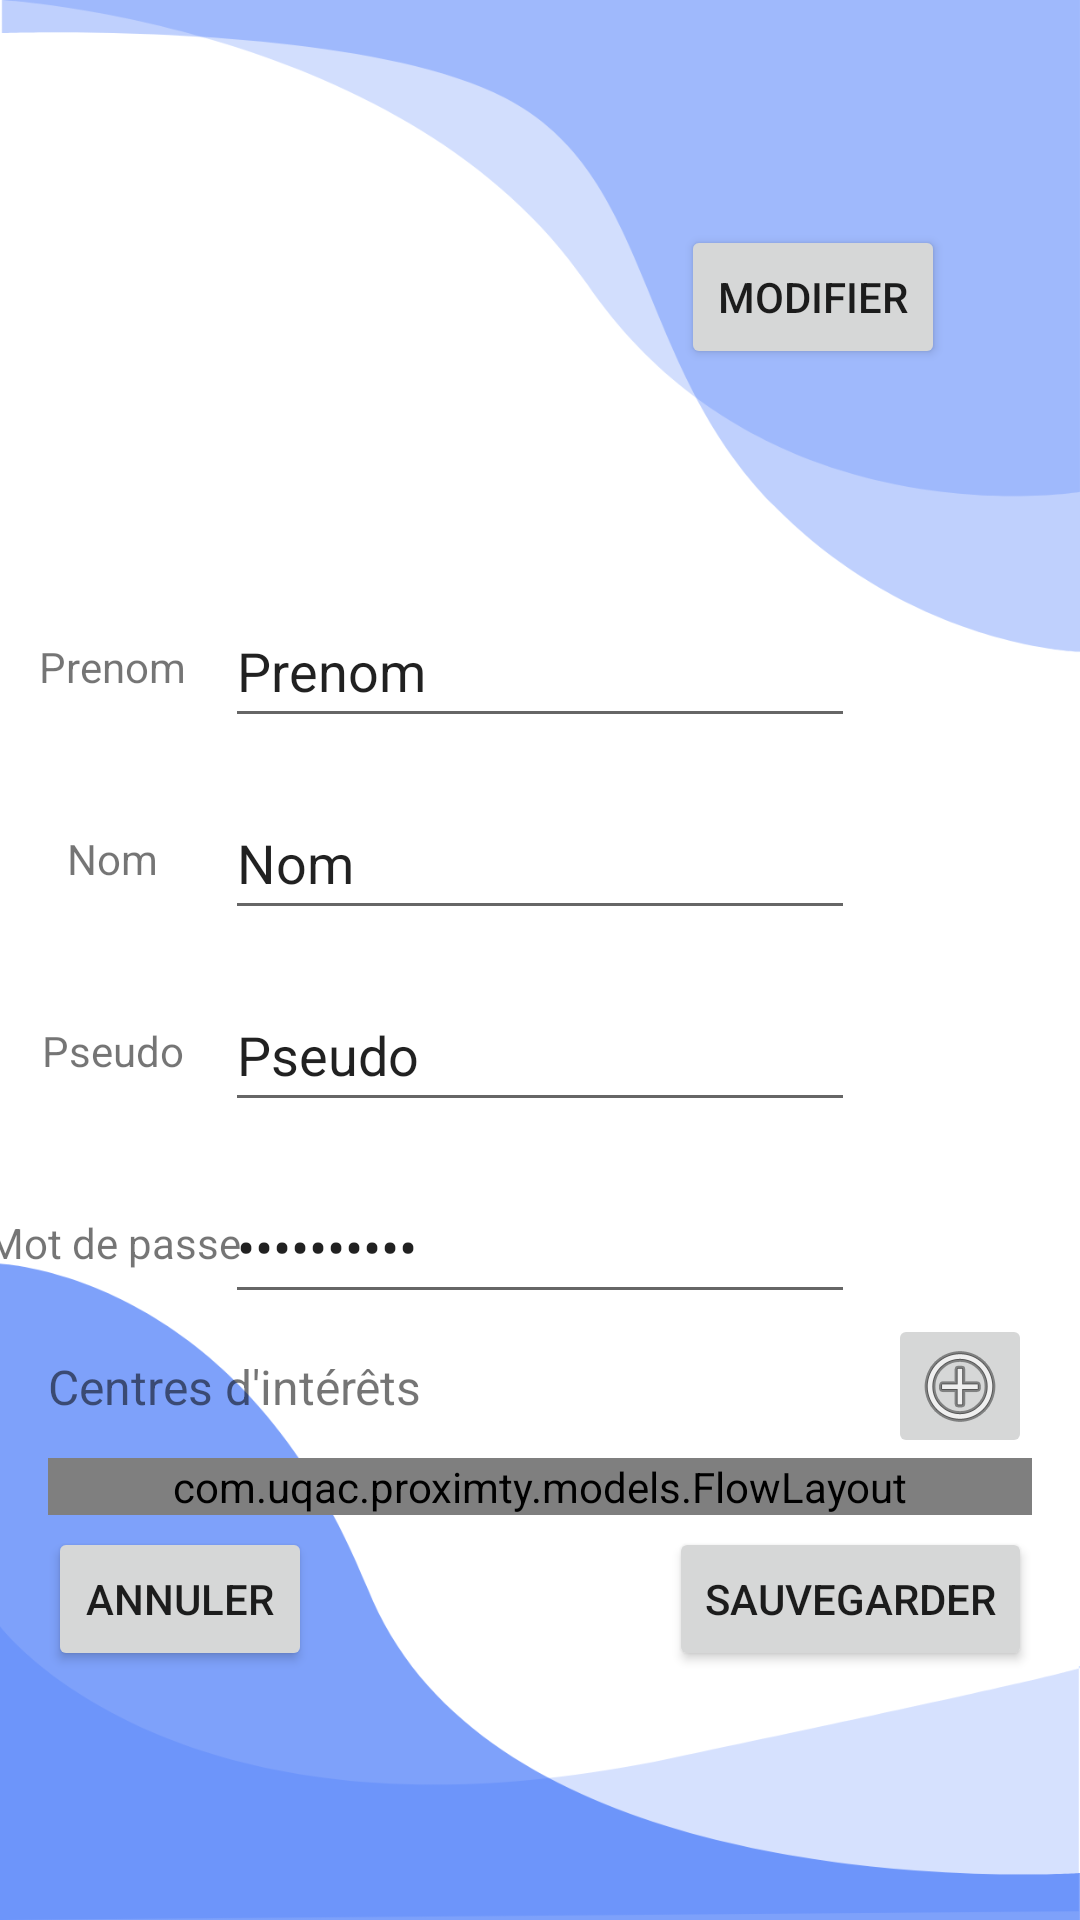

Screen size 1080px x 1920px. Icon name, then its center in pixels as [x,y]:
add: [960,1386]
